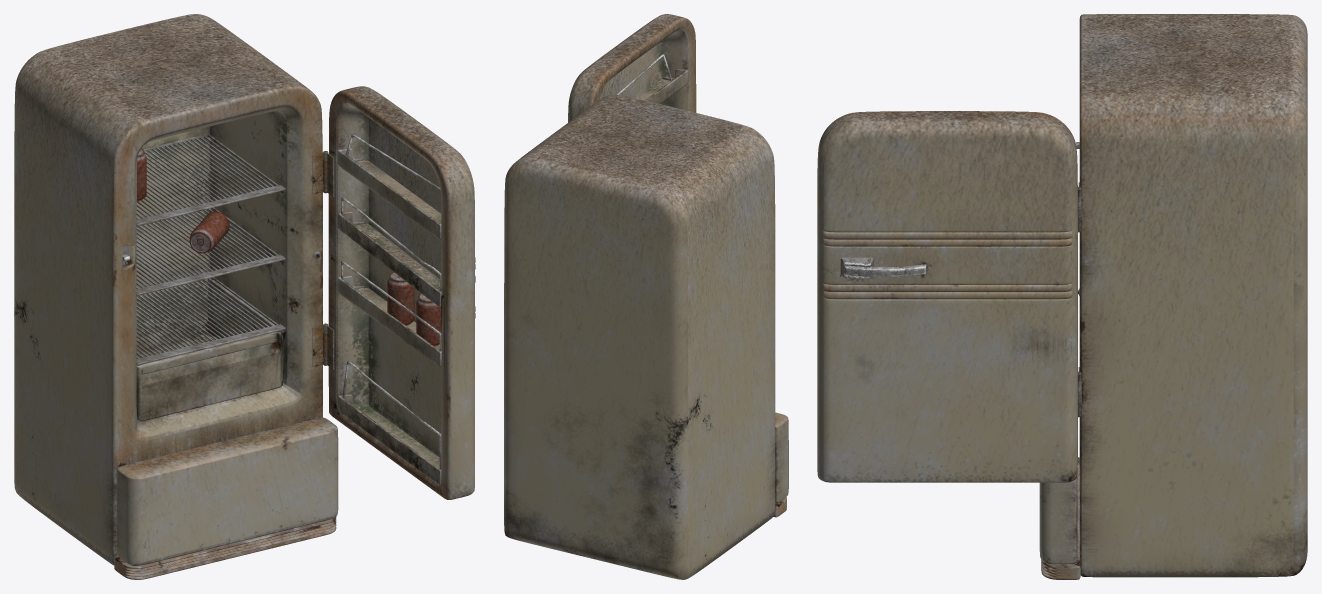
The model's file is Fridge.glb.
3 renders of one model, left to right at view 1: azimuth 30°, elevation 25°; view 2: azimuth 150°, elevation 25°; view 3: azimuth 270°, elevation 25°, orthographic. The views are drawn at different scales.
Visible parts, largest first — view 1: Cube, Cube.004, Cube.002, Cube.008, Cube.009, Cube.005, Cube.007, Cylinder, Cylinder.006, Cylinder.004, Cylinder.003; view 2: Cube, Cube.009; view 3: Cube, Cube.001.
Boxes of the visible parts, left/top/right/bottom form: Cube: left=14, top=14, right=475, bottom=579; Cube.004: left=136, top=133, right=285, bottom=365; Cube.002: left=136, top=279, right=283, bottom=421; Cube.008: left=337, top=197, right=441, bottom=307; Cube.009: left=337, top=148, right=441, bottom=239; Cube.005: left=337, top=261, right=441, bottom=366; Cube.007: left=337, top=361, right=441, bottom=484; Cylinder: left=312, top=151, right=334, bottom=369; Cylinder.006: left=189, top=211, right=229, bottom=253; Cylinder.004: left=387, top=272, right=414, bottom=325; Cylinder.003: left=416, top=293, right=441, bottom=346; Cube: left=504, top=14, right=788, bottom=579; Cube.009: left=636, top=68, right=688, bottom=103; Cube: left=817, top=14, right=1307, bottom=579; Cube.001: left=840, top=257, right=926, bottom=278.
Bounding box in the file's own units: 3.51 × 5.75 × 5.42.
2 materials, 2 textured.
